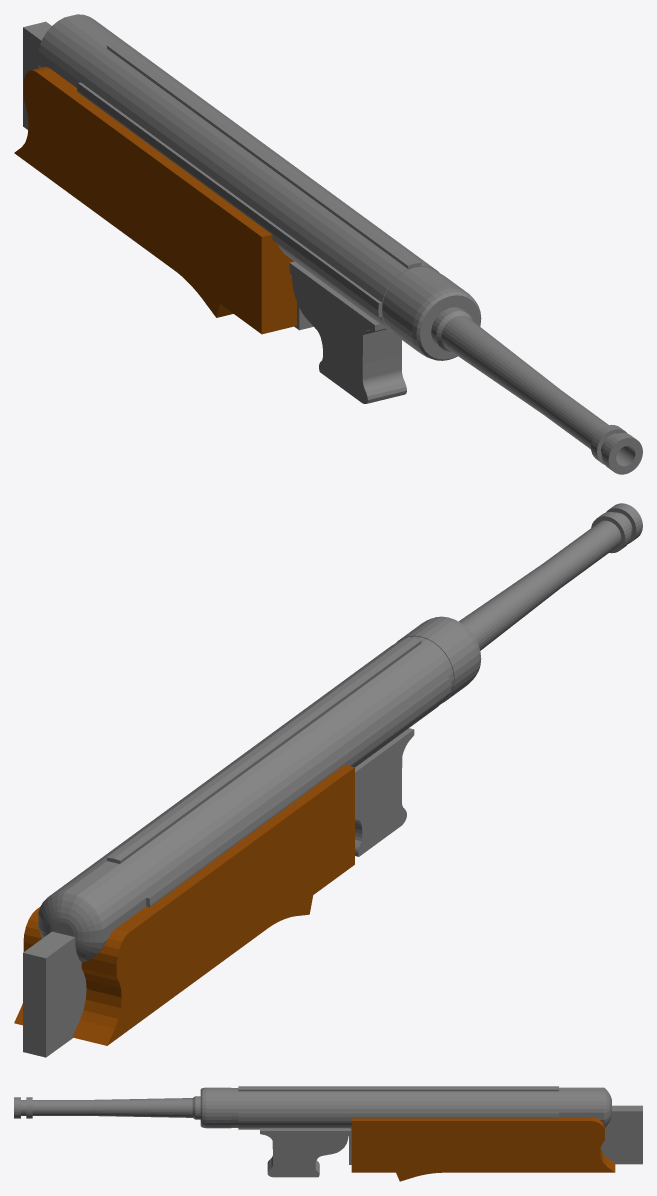
3 renders of one model, top to bottom at view 1: azimuth 30°, elevation 25°; view 2: azimuth 150°, elevation 25°; view 3: azimuth 270°, elevation 25°, orthographic. The views are drawn at different scales.
Parts seen in each view (by area): view 1: Barrel, Handle_Wood, Cube, Handle_Metall; view 2: Barrel, Handle_Wood, Handle_Metall, Cube; view 3: Barrel, Handle_Wood, Cube, Handle_Metall.
Part boxes in pixels (bbox=[...]): Barrel: bbox=[38, 14, 642, 474]; Handle_Wood: bbox=[14, 67, 296, 334]; Cube: bbox=[289, 261, 406, 403]; Handle_Metall: bbox=[23, 21, 313, 330]; Barrel: bbox=[38, 503, 642, 962]; Handle_Wood: bbox=[14, 765, 354, 1045]; Handle_Metall: bbox=[23, 931, 86, 1057]; Cube: bbox=[355, 728, 414, 856]; Barrel: bbox=[14, 1086, 611, 1129]; Handle_Wood: bbox=[351, 1117, 615, 1181]; Cube: bbox=[260, 1128, 350, 1177]; Handle_Metall: bbox=[349, 1105, 642, 1164].
Size of the model in its own units: 5.56 by 9.06 by 61.08.
